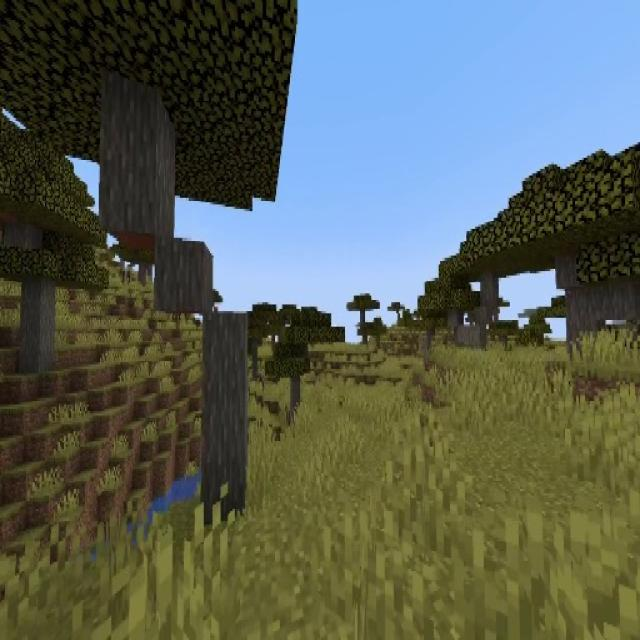acacia: (4, 0, 306, 533), (510, 148, 640, 366), (0, 131, 110, 367), (434, 225, 522, 350), (268, 336, 312, 414), (346, 294, 381, 344)
acacia_log: (101, 89, 174, 247), (202, 311, 248, 520), (157, 240, 211, 313), (566, 260, 600, 360), (21, 282, 55, 367), (457, 322, 485, 354), (482, 273, 499, 315)
